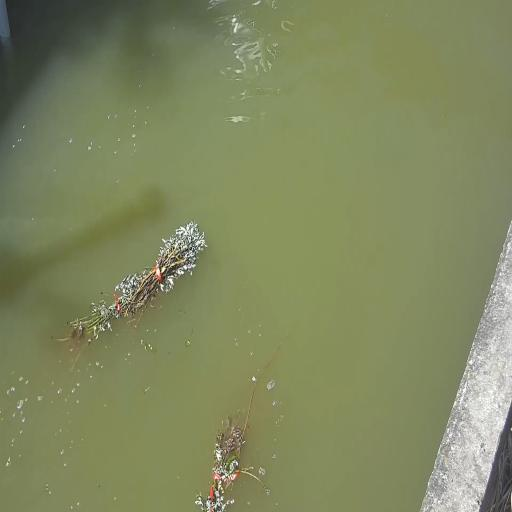twig: (193, 305, 303, 512), (61, 221, 207, 343)
